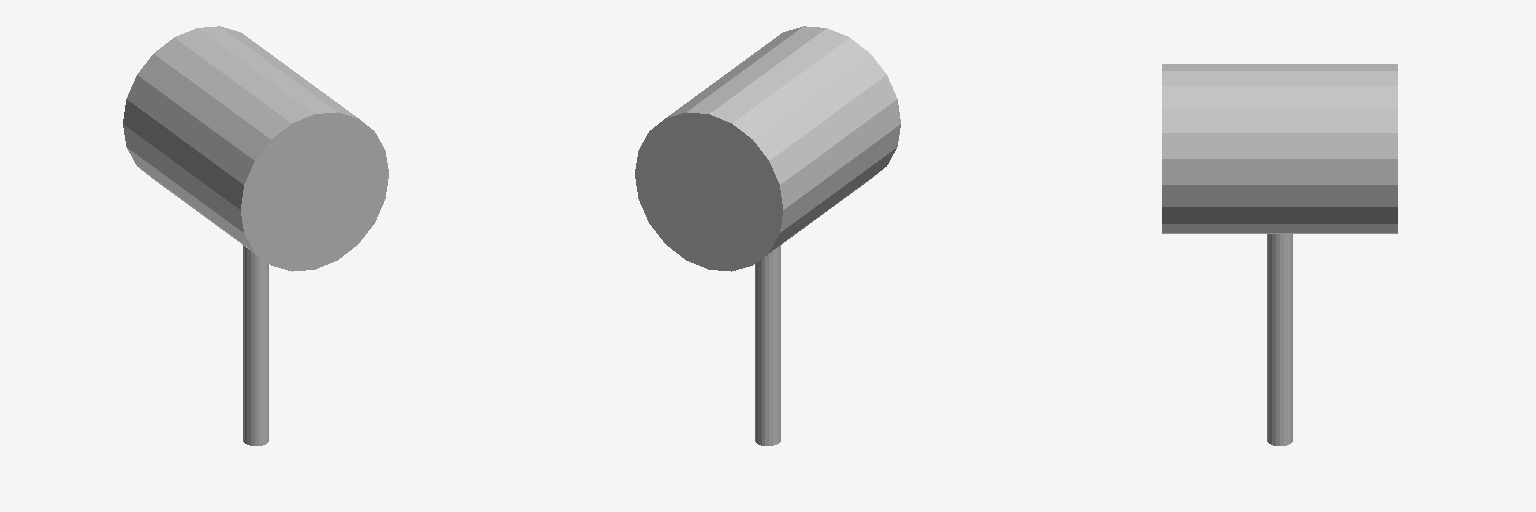
The model's file is Hammer.obj.
The picture shows the model from 3 angles: view 1: azimuth 30°, elevation 25°; view 2: azimuth 150°, elevation 25°; view 3: azimuth 270°, elevation 25°; orthographic projection.
Visible parts, largest first — view 1: pCylinder3; view 2: pCylinder3; view 3: pCylinder3.
Boxes of the visible parts, x1,y1,x2,y2 form: pCylinder3: [123, 26, 388, 445]; pCylinder3: [635, 26, 900, 445]; pCylinder3: [1162, 64, 1397, 445].
Bounding box in the file's own units: 1.33 × 3.17 × 1.83.